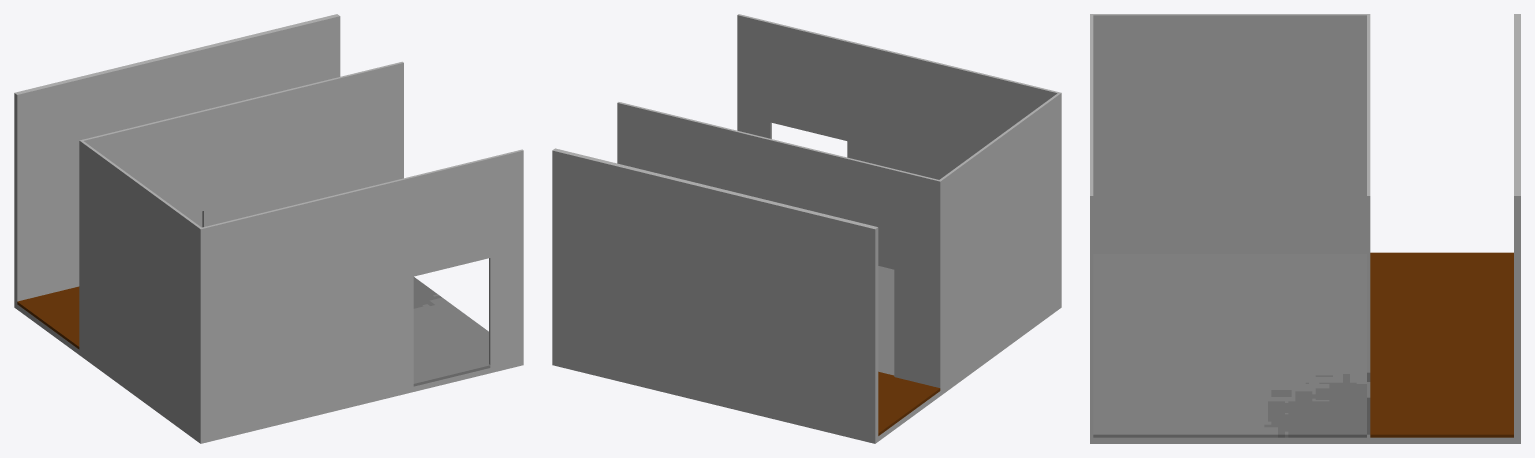
File: 4x2 second (2)-0.obj
The picture shows the model from 3 angles, left to right: view 1: azimuth 30°, elevation 25°; view 2: azimuth 150°, elevation 25°; view 3: azimuth 270°, elevation 25°; orthographic projection. The views are drawn at different scales.
Parts seen in each view (by area): view 1: 4x2 second (2)-0; view 2: 4x2 second (2)-0; view 3: 4x2 second (2)-0.
Part boxes in pixels (x1,y1,x2,y2): 4x2 second (2)-0: (14, 14, 523, 443); 4x2 second (2)-0: (552, 14, 1061, 443); 4x2 second (2)-0: (1090, 14, 1520, 443).
Size of the model in its own units: 126 by 80 by 126.
1 material, 1 textured.
